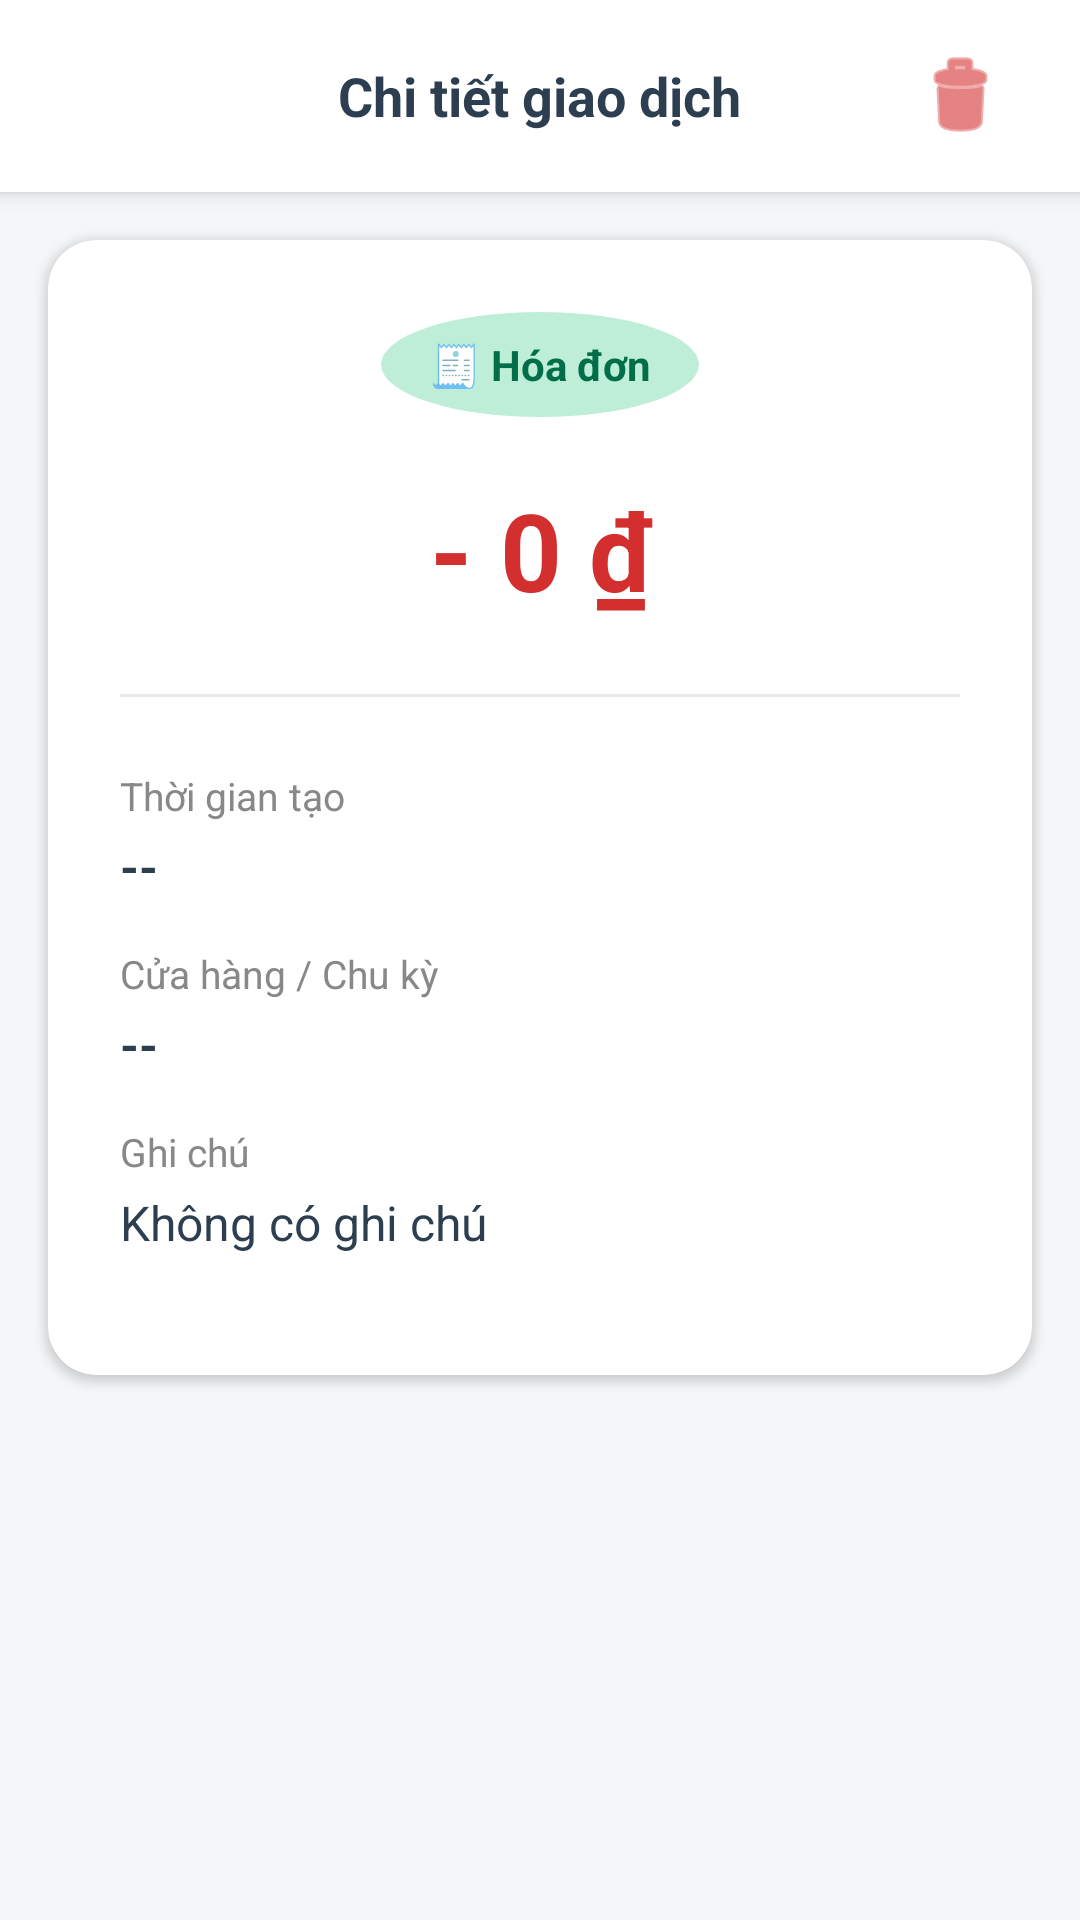

Named icons in this screenshot (1080px x 1920px) and their centers, point (x, y):
delete: point (960, 94)
